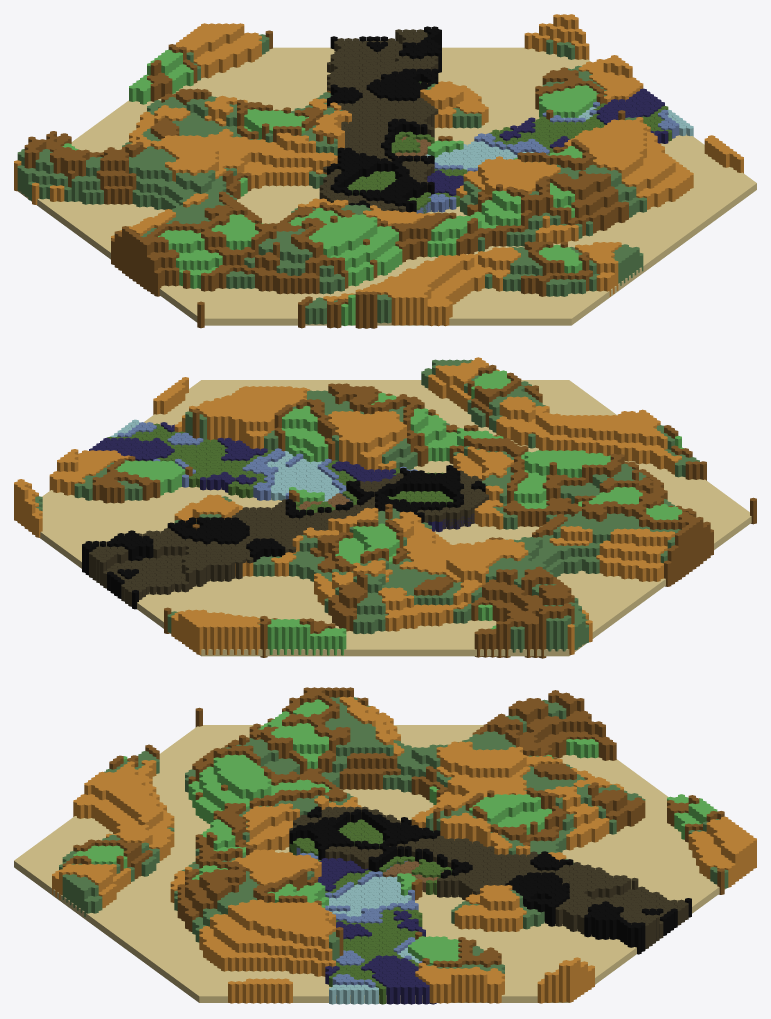
File: 0001_tile_1222102.fbx
The picture shows the model from 3 angles, top to bottom: view 1: azimuth 30°, elevation 25°; view 2: azimuth 150°, elevation 25°; view 3: azimuth 270°, elevation 25°; orthographic projection.
Visible parts, largest first — view 1: Plane; view 2: Plane; view 3: Plane.
Part boxes in pixels (bbox=[...]): Plane: bbox=[14, 14, 756, 328]; Plane: bbox=[14, 357, 756, 658]; Plane: bbox=[14, 687, 756, 1004].
Bounding box in the file's own units: 1008 × 76.23 × 1152.
